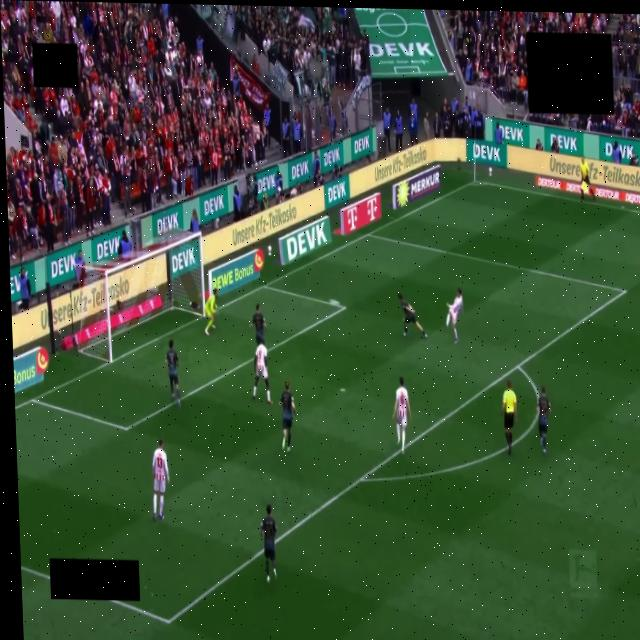ball: (330, 299, 340, 305)
player: (393, 377, 411, 454), (152, 440, 169, 520), (261, 505, 277, 582), (399, 294, 427, 337), (253, 343, 272, 404), (280, 382, 296, 452), (165, 340, 180, 407), (446, 289, 463, 343), (537, 388, 551, 453), (250, 303, 266, 344), (205, 290, 217, 334)
referee: (502, 380, 517, 454)
